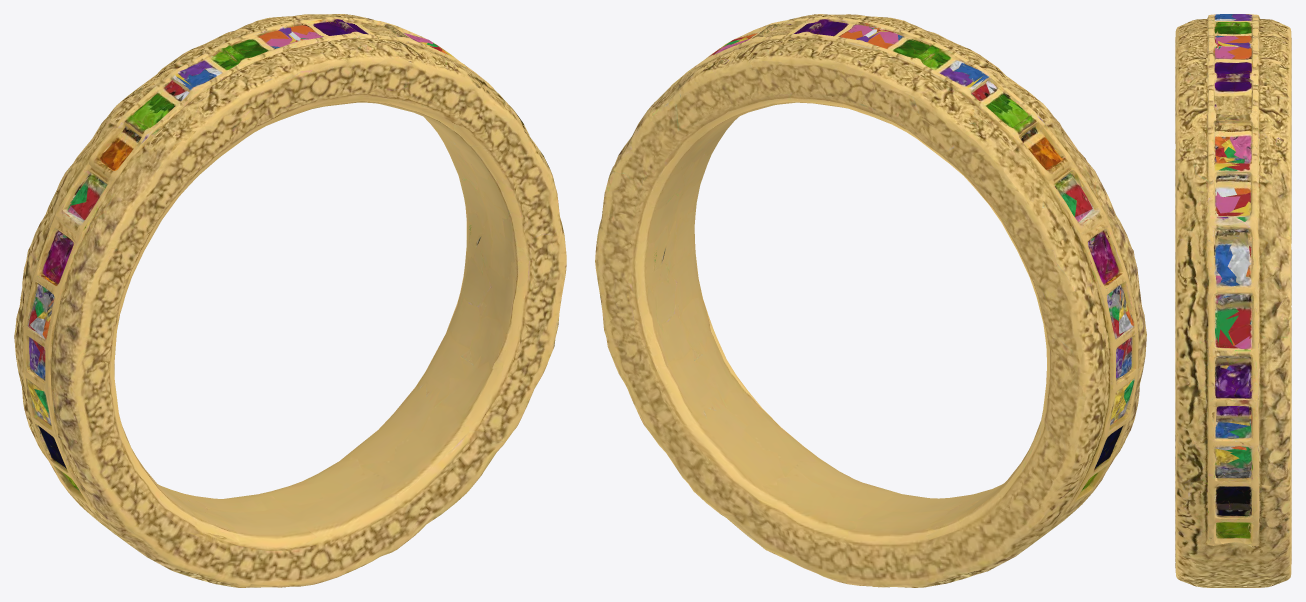
Rendered from priest-ring-v2.glb.
3 views of the same model, side by side, from view 1: azimuth 30°, elevation 25°; view 2: azimuth 150°, elevation 25°; view 3: azimuth 270°, elevation 25° (orthographic). The views are drawn at different scales.
Visible parts, largest first — view 1: Mesh_0; view 2: Mesh_0; view 3: Mesh_0.
Boxes of the visible parts, left/top/right/bottom form: Mesh_0: left=14, top=14, right=566, bottom=587; Mesh_0: left=595, top=14, right=1146, bottom=587; Mesh_0: left=1175, top=14, right=1291, bottom=587.
Size of the model in its own units: 1.9 by 1.9 by 0.3872.
Materials: 1 (1 with a texture image).
